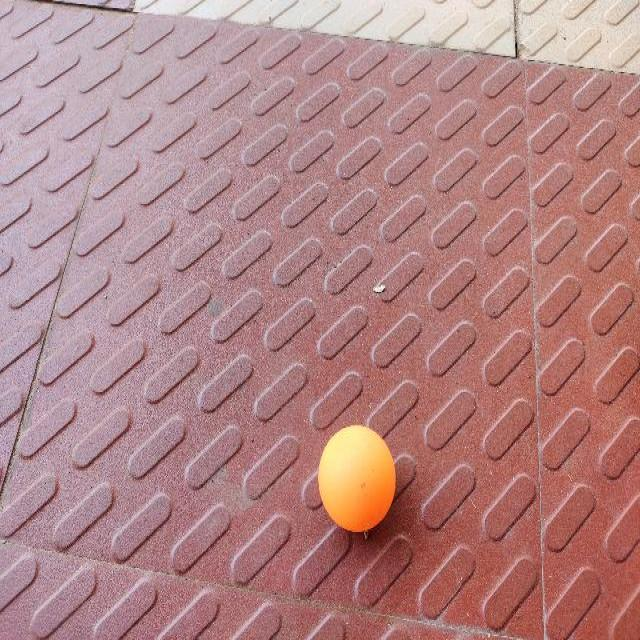oball: (318, 424, 397, 532)
